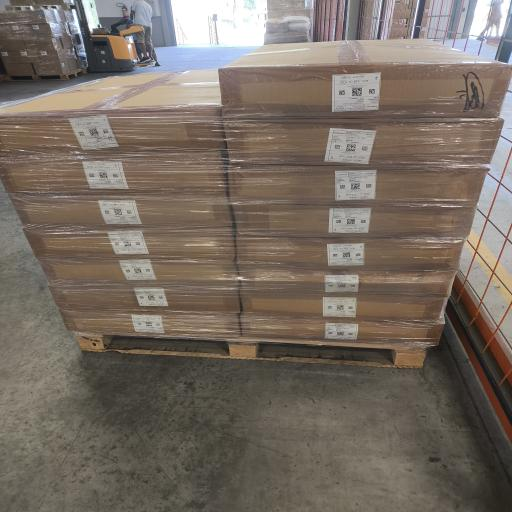pallet: (76, 334, 426, 368), (0, 69, 87, 81)
